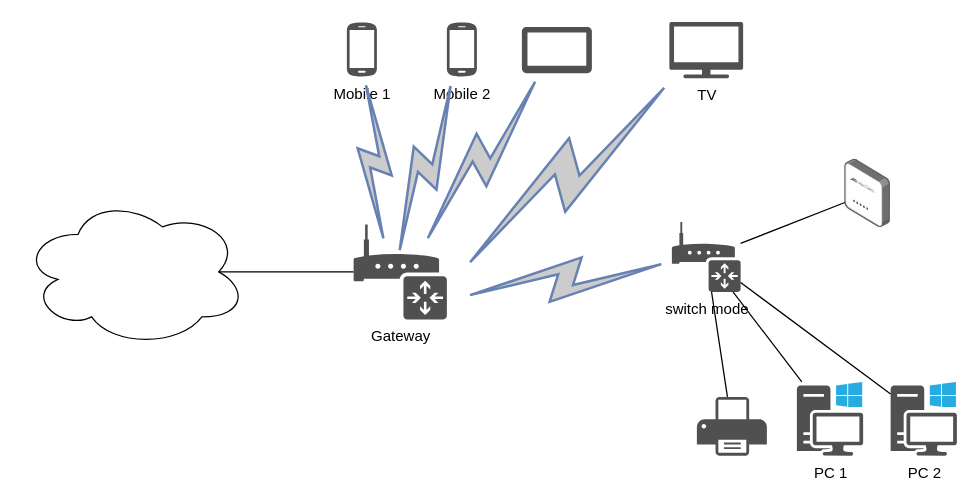
Image size: 979x503. Some labels were removed from this diagram. Each missing label, with the box of its shape:
AP 2.4: (844, 159, 890, 227)
INTERNET: (21, 196, 247, 347)
MFP: (696, 396, 766, 455)
Tablet: (521, 26, 591, 72)
